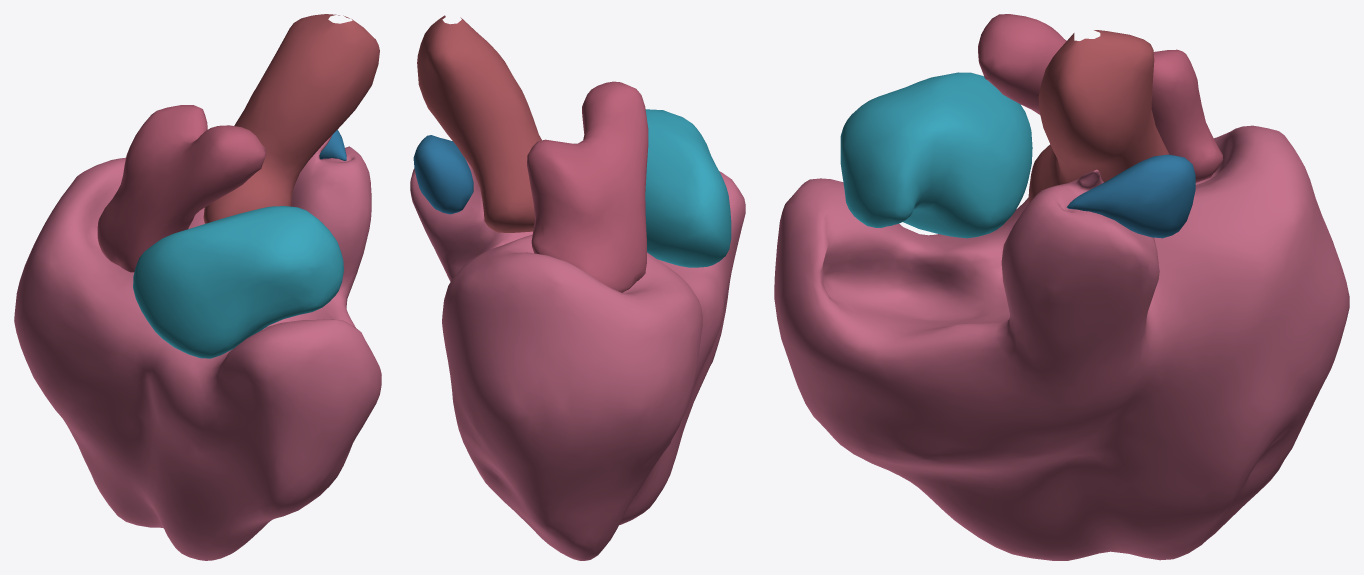
Rendered from frame_51.glb.
3 views of the same model, side by side, from view 1: azimuth 30°, elevation 25°; view 2: azimuth 150°, elevation 25°; view 3: azimuth 270°, elevation 25° (orthographic). The views are drawn at different scales.
Visible parts, largest first — view 1: Renderer Node; view 2: Renderer Node; view 3: Renderer Node.
Part boxes in pixels (x1,y1,x2,y2): Renderer Node: (14,14,381,560); Renderer Node: (410,15,745,560); Renderer Node: (774,14,1349,560).
Bounding box in the file's own units: 102 × 157 × 132.
